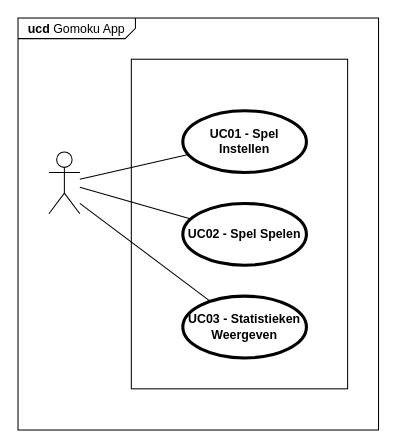
The diagram is 397 pixels wide and 448 high, and some of its shapes have lost their labels. Each missing label, with the box of its shape:
Gomoku App: (130, 58, 348, 389)
Player: (48, 151, 80, 214)
